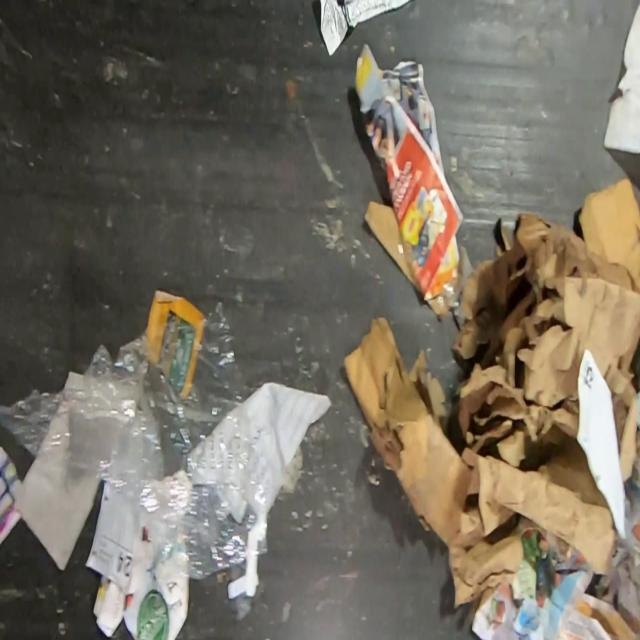cardboard: (343, 216, 640, 610), (516, 213, 632, 290), (577, 177, 640, 294), (362, 199, 415, 289)
soft_plastic: (1, 302, 272, 624)
